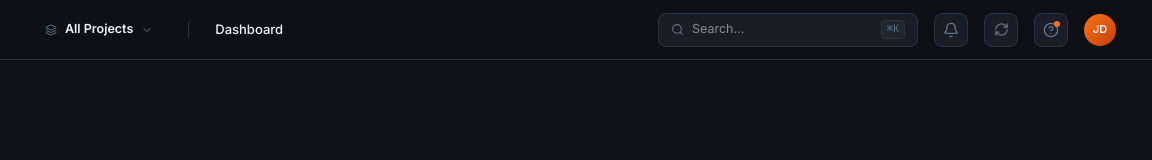
Test case: TopBar search › shows results from seeded React Query cache
This screenshot has width=1152, height=160.
Type "revenue" into the field with placeholder "Search…" at coordinates (782, 29), box [692,20,873,38]
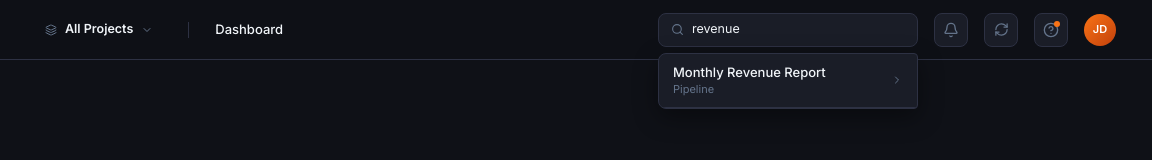
Expected: the text "Monthly Revenue Report" is shown, [673,64,826,80]
